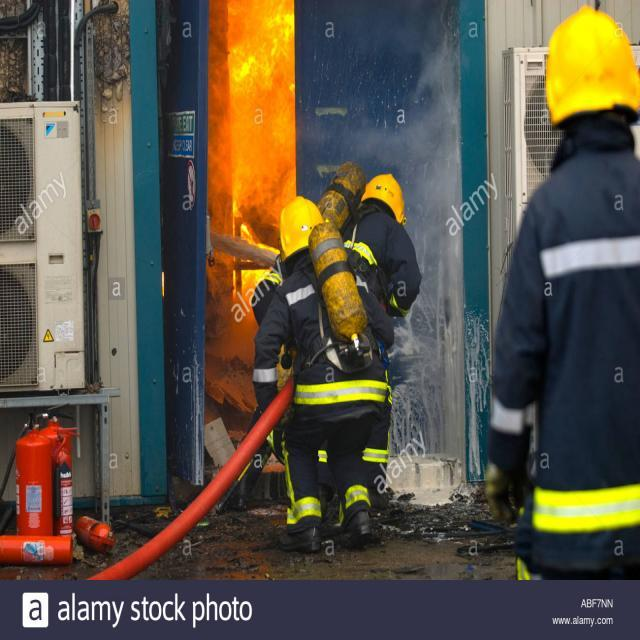Fire: (192, 1, 314, 364)
